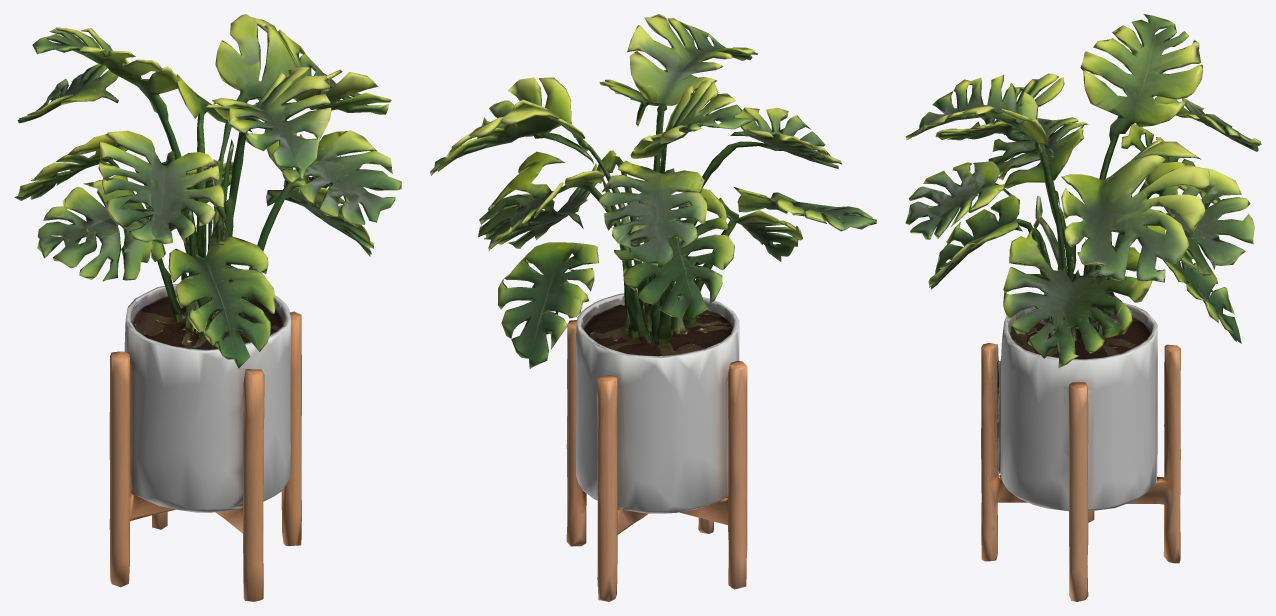
File: Meshy_AI_Monstera_Elegance_0106213536_texture.fbx
3 renders of one model, left to right at view 1: azimuth 30°, elevation 25°; view 2: azimuth 150°, elevation 25°; view 3: azimuth 270°, elevation 25°, orthographic. The views are drawn at different scales.
Visible parts, largest first — view 1: Mesh_0; view 2: Mesh_0; view 3: Mesh_0.
Boxes of the visible parts, x1,y1,x2,y2 form: Mesh_0: (14, 14, 401, 601); Mesh_0: (430, 14, 876, 601); Mesh_0: (905, 14, 1261, 601).
Bounding box in the file's own units: 149 × 191 × 126.
Materials: 1 (1 with a texture image).
